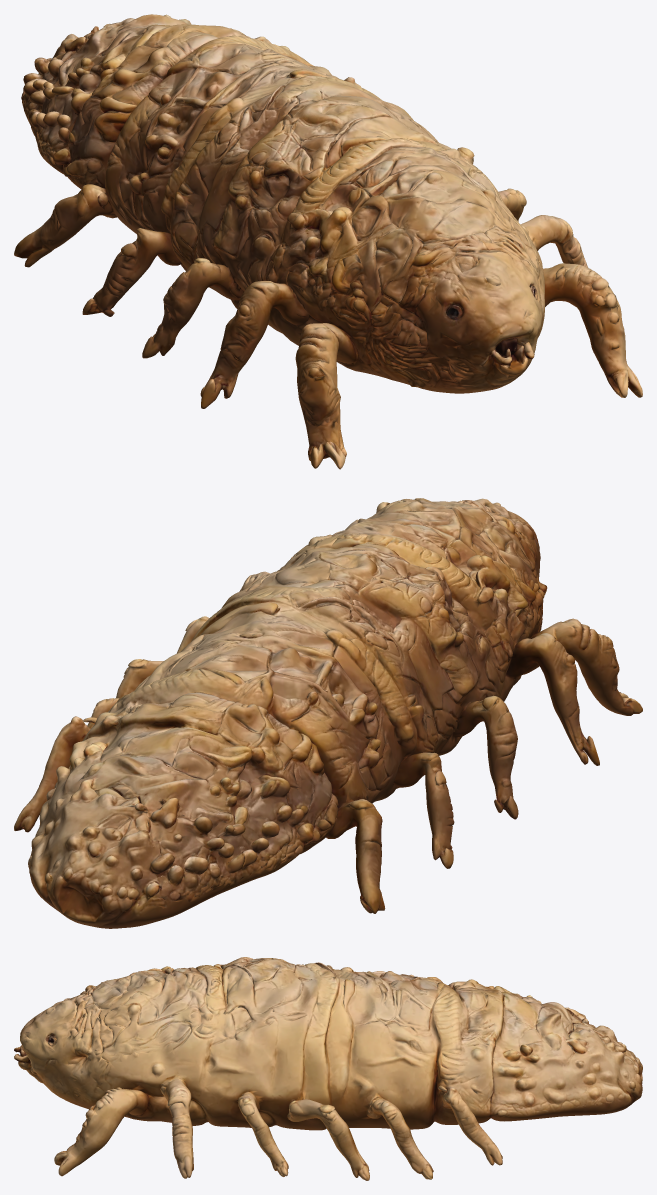
File: tardigrade.glb
3 views of the same model, one above another, from view 1: azimuth 30°, elevation 25°; view 2: azimuth 150°, elevation 25°; view 3: azimuth 270°, elevation 25° (orthographic). The views are drawn at different scales.
Parts seen in each view (by area): view 1: tripo_node_96602516-113d-4a6f-8ac7-8612c95c63a4; view 2: tripo_node_96602516-113d-4a6f-8ac7-8612c95c63a4; view 3: tripo_node_96602516-113d-4a6f-8ac7-8612c95c63a4.
Part boxes in pixels (x1,y1,x2,y2): tripo_node_96602516-113d-4a6f-8ac7-8612c95c63a4: [14, 14, 642, 469]; tripo_node_96602516-113d-4a6f-8ac7-8612c95c63a4: [14, 498, 642, 928]; tripo_node_96602516-113d-4a6f-8ac7-8612c95c63a4: [14, 957, 642, 1180].
Bounding box in the file's own units: 0.5082 × 0.2664 × 0.9793.
1 material, 1 textured.
